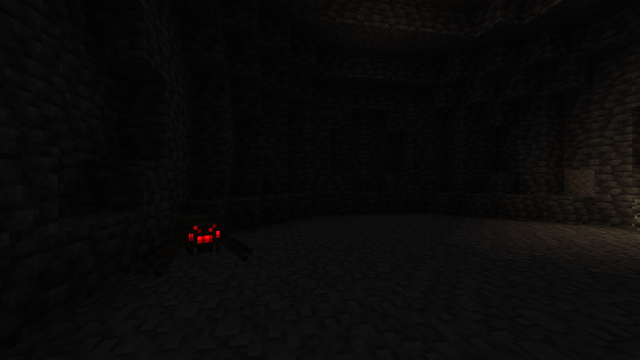araignees: (142, 211, 239, 275)
